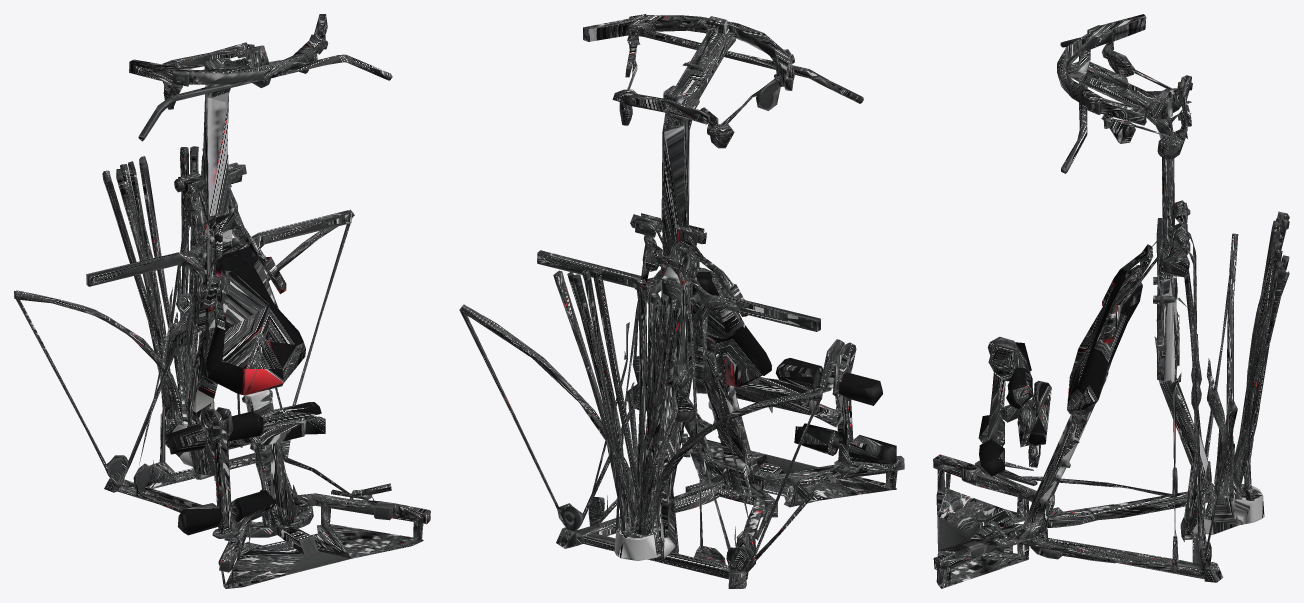
The model's file is k1-bowflex-xtreme-2se-phone.glb.
3 renders of one model, left to right at view 1: azimuth 30°, elevation 25°; view 2: azimuth 150°, elevation 25°; view 3: azimuth 270°, elevation 25°, orthographic. The views are drawn at different scales.
Visible parts, largest first — view 1: Mesh_0; view 2: Mesh_0; view 3: Mesh_0.
Part boxes in pixels (x1,y1,x2,y2): Mesh_0: [14, 14, 430, 588]; Mesh_0: [459, 14, 904, 588]; Mesh_0: [933, 14, 1289, 588].
Bounding box in the file's own units: 1.44 × 1.9 × 1.26.
Materials: 1 (1 with a texture image).
